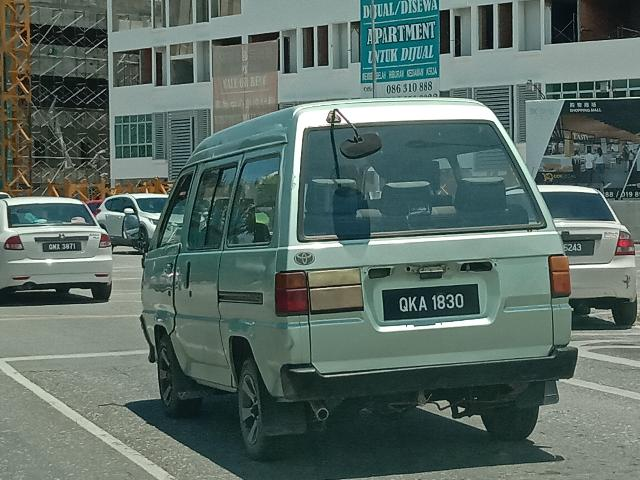License_Plate: (382, 285, 481, 323), (43, 243, 83, 253)
car: (2, 187, 115, 305)
van: (130, 100, 576, 455)
